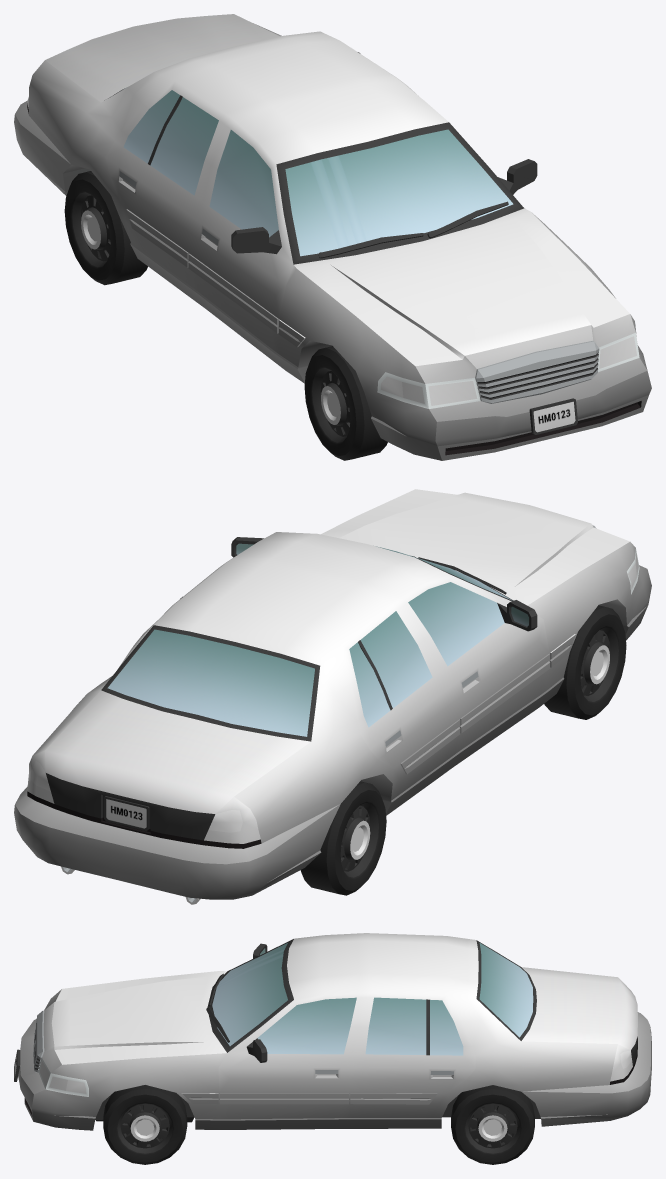
The model's file is carro_sedan.glb.
3 views of the same model, one above another, from view 1: azimuth 30°, elevation 25°; view 2: azimuth 150°, elevation 25°; view 3: azimuth 270°, elevation 25° (orthographic). The views are drawn at different scales.
Visible parts, largest first — view 1: Car_S, CS_WheelFR, CS_Wheels_B; view 2: Car_S, CS_Wheels_B, CS_WheelFR; view 3: Car_S, CS_WheelFL, CS_Wheels_B.
Boxes of the visible parts, <box> form: Car_S: <box>14,14,651,460</box>; CS_WheelFR: <box>304,346,387,460</box>; CS_Wheels_B: <box>64,171,147,285</box>; Car_S: <box>14,489,651,904</box>; CS_Wheels_B: <box>300,781,386,895</box>; CS_WheelFR: <box>544,605,626,719</box>; Car_S: <box>14,933,651,1130</box>; CS_WheelFL: <box>103,1085,187,1164</box>; CS_Wheels_B: <box>451,1085,534,1164</box>.
Bounding box in the file's own units: 2.16 × 1.51 × 5.4.
Materials: 4 (4 with a texture image).
